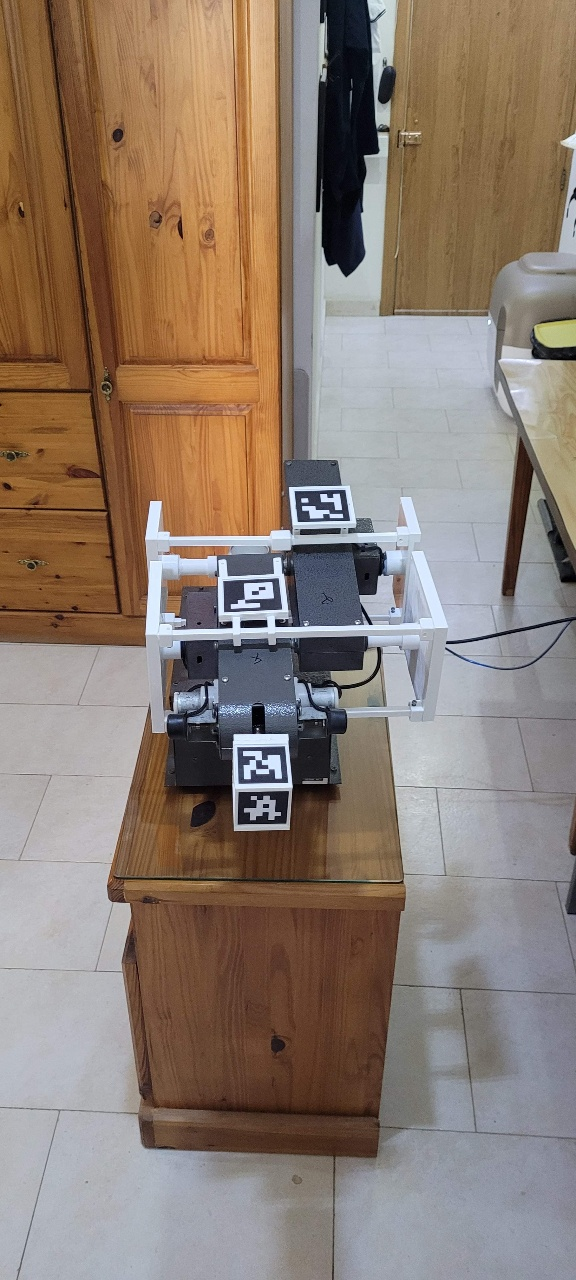Robot: (75, 81, 503, 992)
